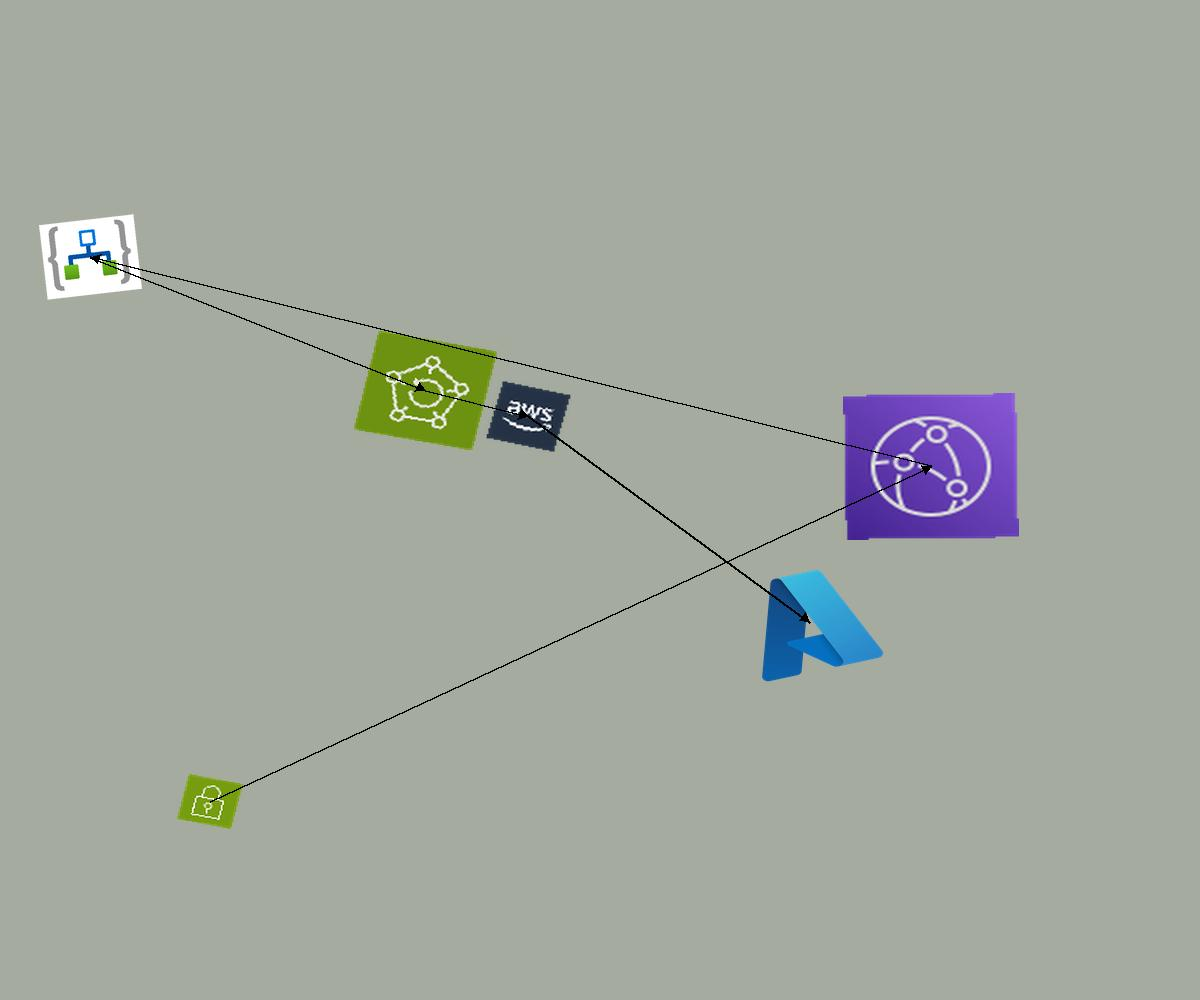AWS-Backup: (353, 330, 498, 451)
AWS-Cloud-logo: (485, 380, 572, 453)
AWS-CloudFront: (843, 393, 1019, 540)
AWS-Public-subnet: (177, 774, 243, 829)
Azure_integration-204-Logic-Apps: (39, 214, 142, 300)
Azure_services: (727, 553, 892, 691)
